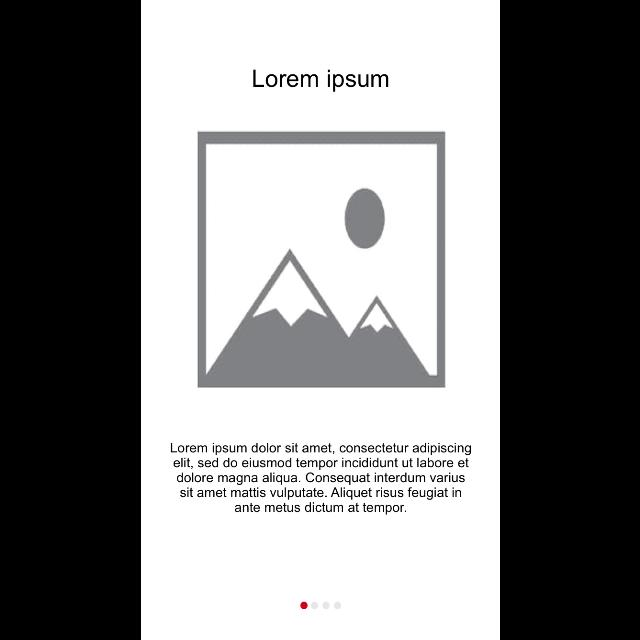image: (197, 132, 446, 388)
pageindicator: (300, 600, 342, 610)
text: (170, 443, 472, 515), (252, 70, 388, 92)
